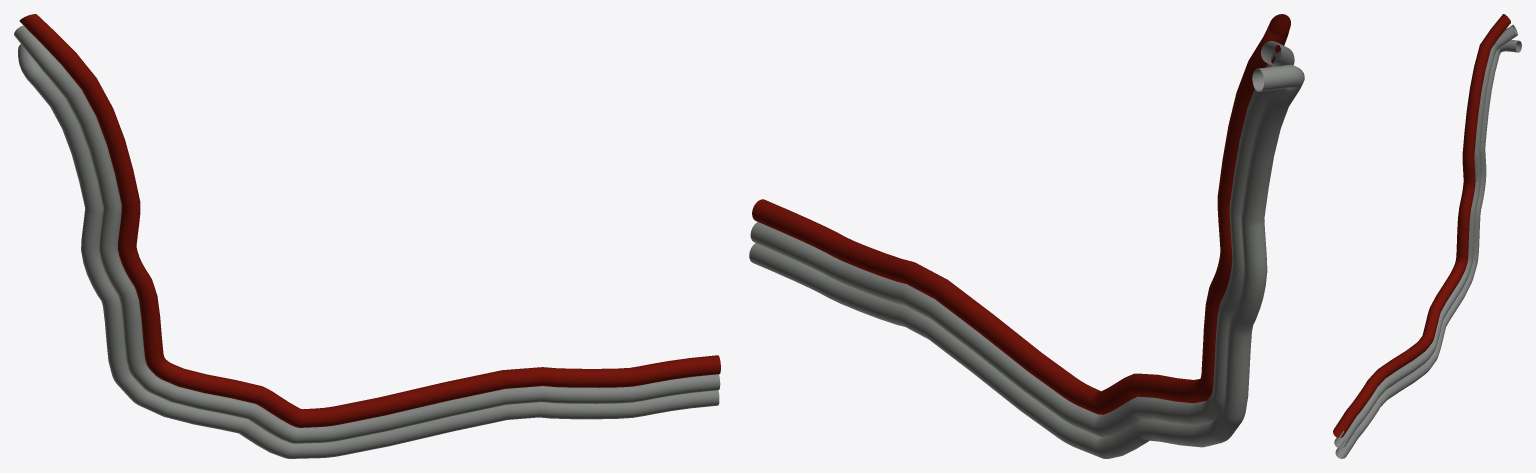
File: wire.glb
The picture shows the model from 3 angles, left to right: view 1: azimuth 30°, elevation 25°; view 2: azimuth 150°, elevation 25°; view 3: azimuth 270°, elevation 25°; orthographic projection. The views are drawn at different scales.
Parts seen in each view (by area): view 1: ahhhwire; view 2: ahhhwire; view 3: ahhhwire.
Boxes of the visible parts, box(x1,y1,x2,y2) form: ahhhwire: box(14, 14, 720, 458); ahhhwire: box(749, 14, 1304, 458); ahhhwire: box(1333, 14, 1521, 458).
Bounding box in the file's own units: 1.28 × 0.9751 × 0.5835.
1 material, 1 textured.
